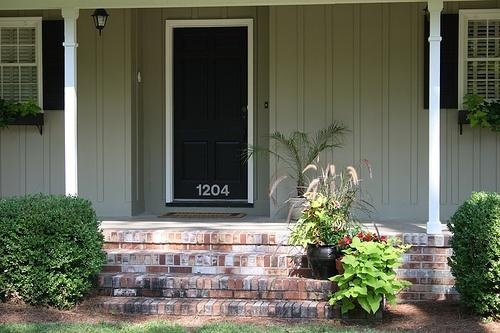pottedplant: (242, 123, 350, 220), (289, 196, 355, 282)
